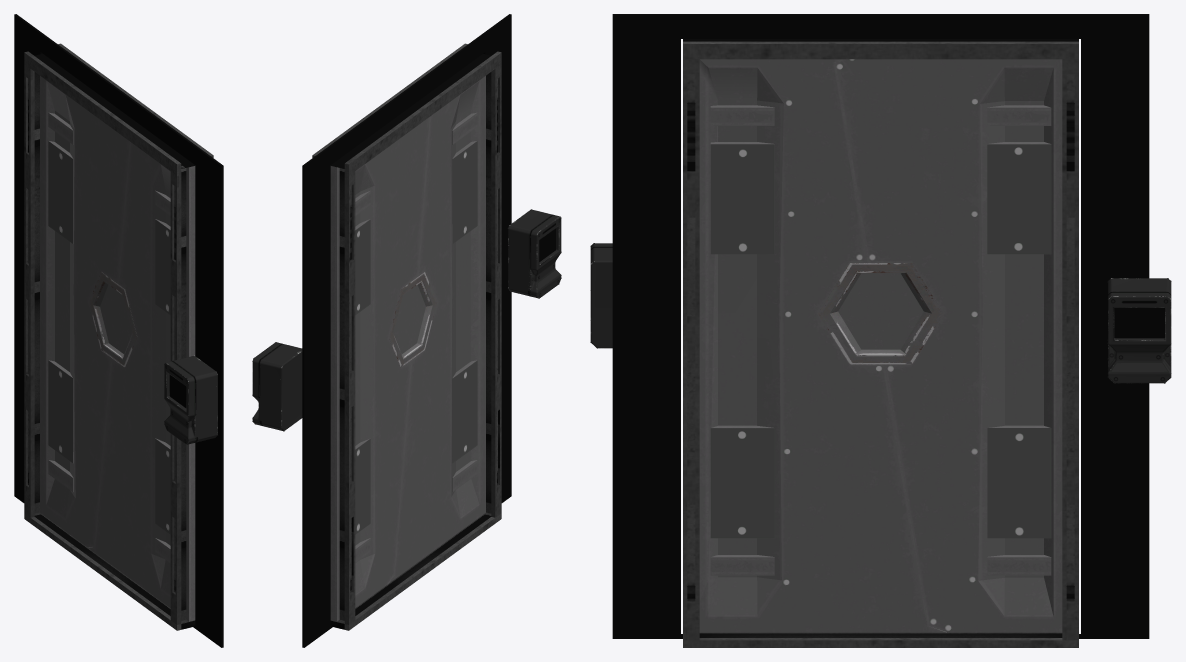
File: LCZ BreakableDoor.fbx
The picture shows the model from 3 angles, left to right: view 1: azimuth 30°, elevation 25°; view 2: azimuth 150°, elevation 25°; view 3: azimuth 270°, elevation 25°; orthographic projection. The views are drawn at different scales.
Visible parts, largest first — view 1: Frame, Door_Right_Renderer, Door_Left_Renderer, TouchScreenPanel; view 2: Frame, Door_Right_Renderer, Door_Left_Renderer, TouchScreenPanel (×2); view 3: Frame, Door_Right_Renderer, Door_Left_Renderer, TouchScreenPanel (×2).
Part boxes in pixels (bbox=[...]): Frame: bbox=[14, 14, 223, 647]; Door_Right_Renderer: bbox=[88, 142, 195, 621]; Door_Left_Renderer: bbox=[40, 76, 130, 547]; TouchScreenPanel: bbox=[164, 355, 217, 444]; Frame: bbox=[302, 14, 511, 647]; Door_Right_Renderer: bbox=[387, 76, 485, 584]; Door_Left_Renderer: bbox=[330, 116, 430, 621]; TouchScreenPanel (×2): bbox=[252, 209, 561, 431]; Frame: bbox=[612, 14, 1149, 647]; Door_Right_Renderer: bbox=[699, 59, 946, 632]; Door_Left_Renderer: bbox=[833, 59, 1062, 632]; TouchScreenPanel (×2): bbox=[590, 243, 1171, 383].
Size of the model in its own units: 0.6311 by 3.4 by 2.87.
Materials: 3 (3 with a texture image).
